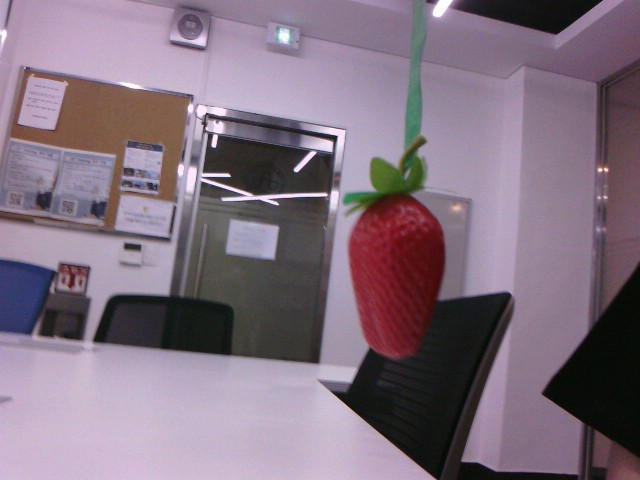strawberry: (344, 182, 454, 362)
